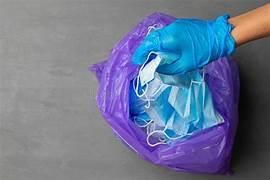Glove: (132, 15, 234, 73)
